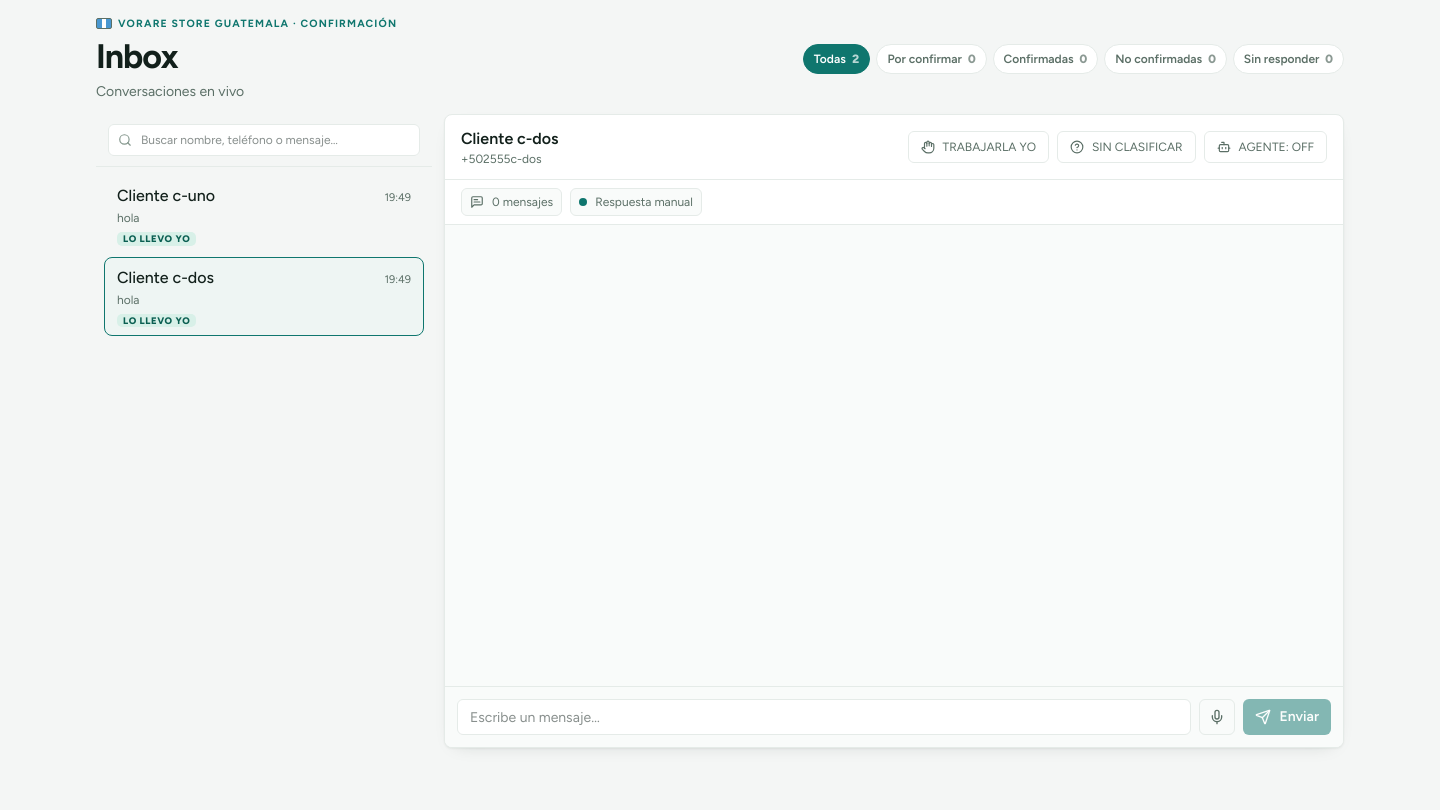
Scenario: «la trabajo yo» › deja la fila tomada sin llevarse el borrador, el filtro ni el chat abierto
Type "ya te confirmo la gu" into the field with placeholder "Escribe un mensaje…". click: (824, 717)
box: top-left (457, 699), bottom-right (1192, 735)
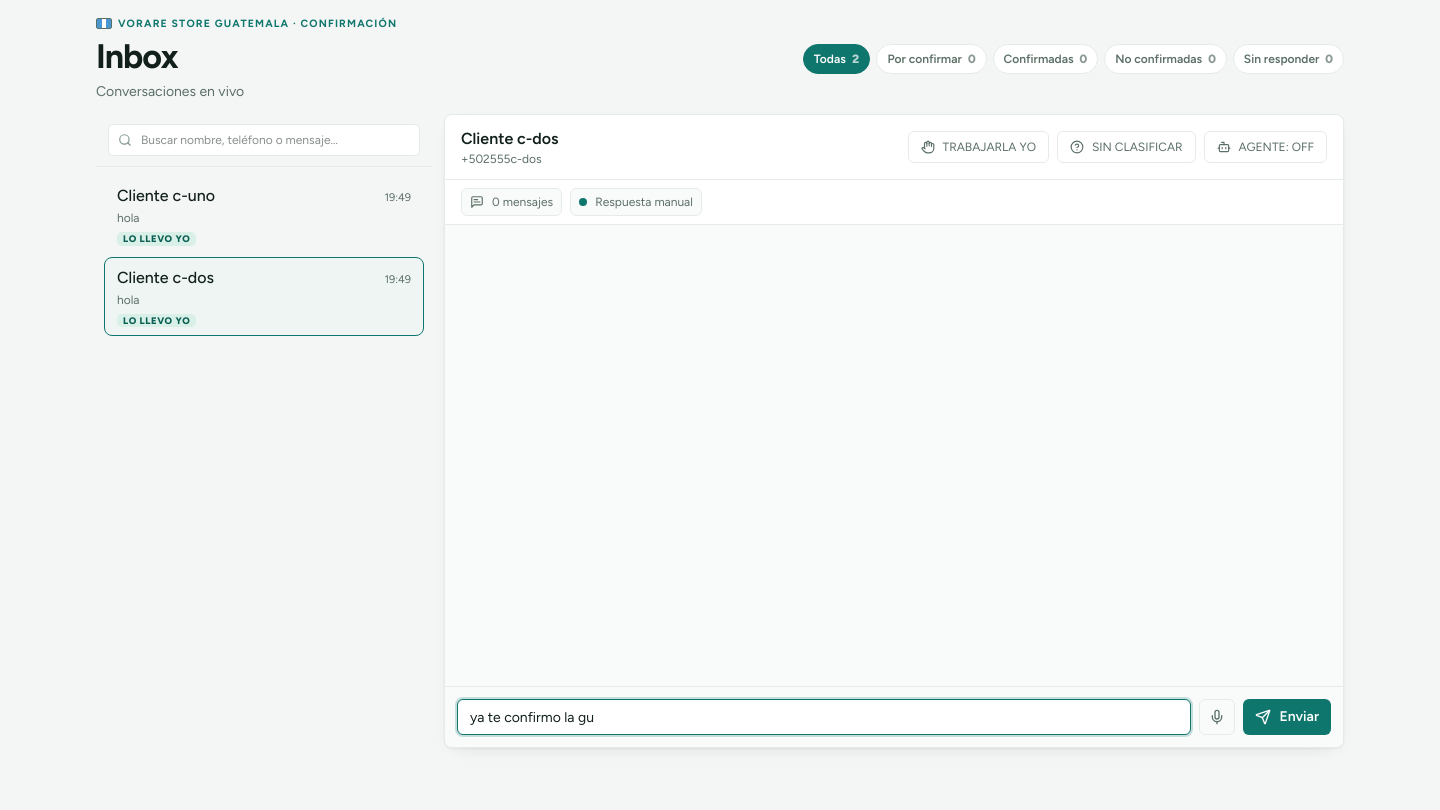
Click the button "Sin responder 0". click: click(1288, 59)
box: top-left (1233, 44), bottom-right (1344, 74)
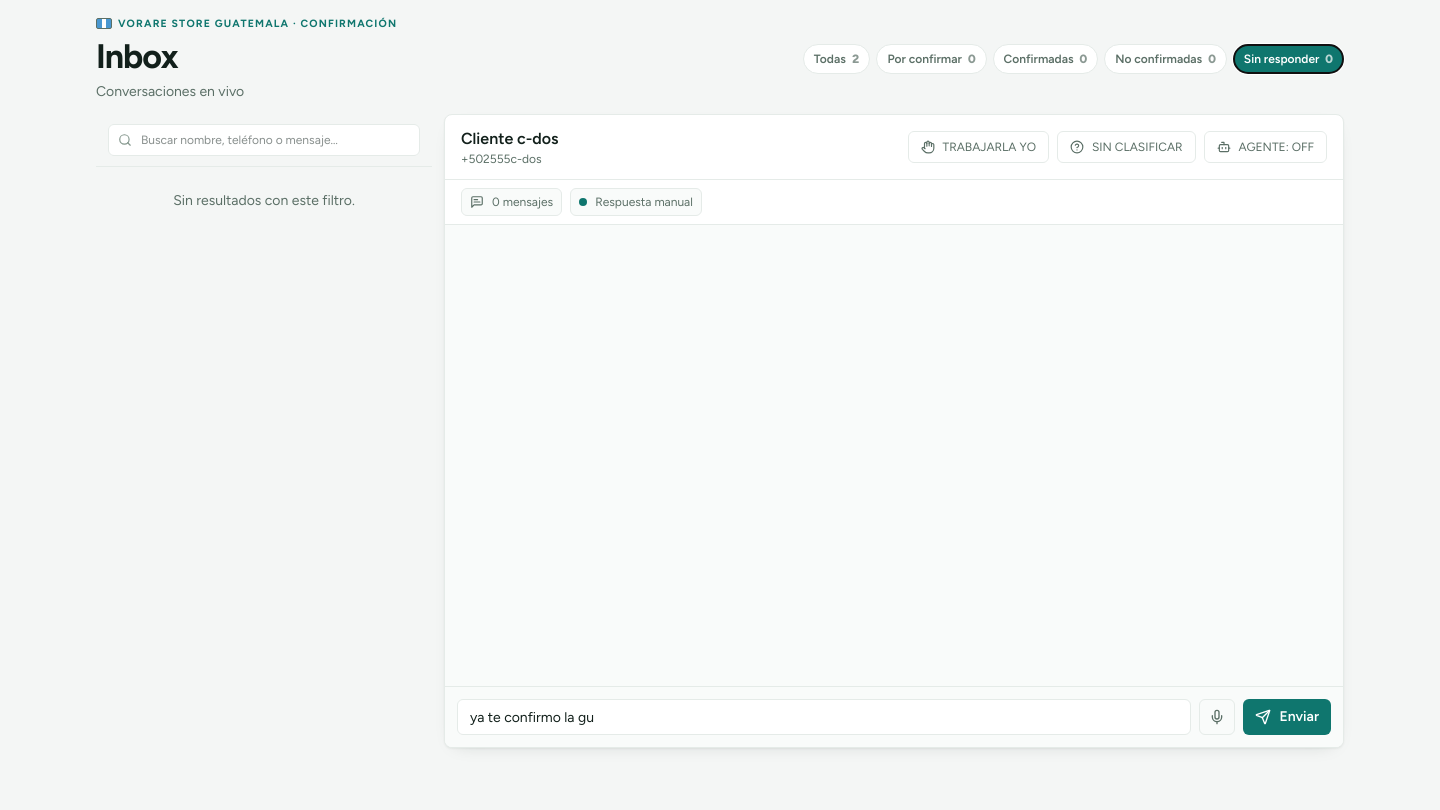
Click the button "Trabajarla yo". click: click(978, 147)
box: top-left (908, 131), bottom-right (1049, 163)
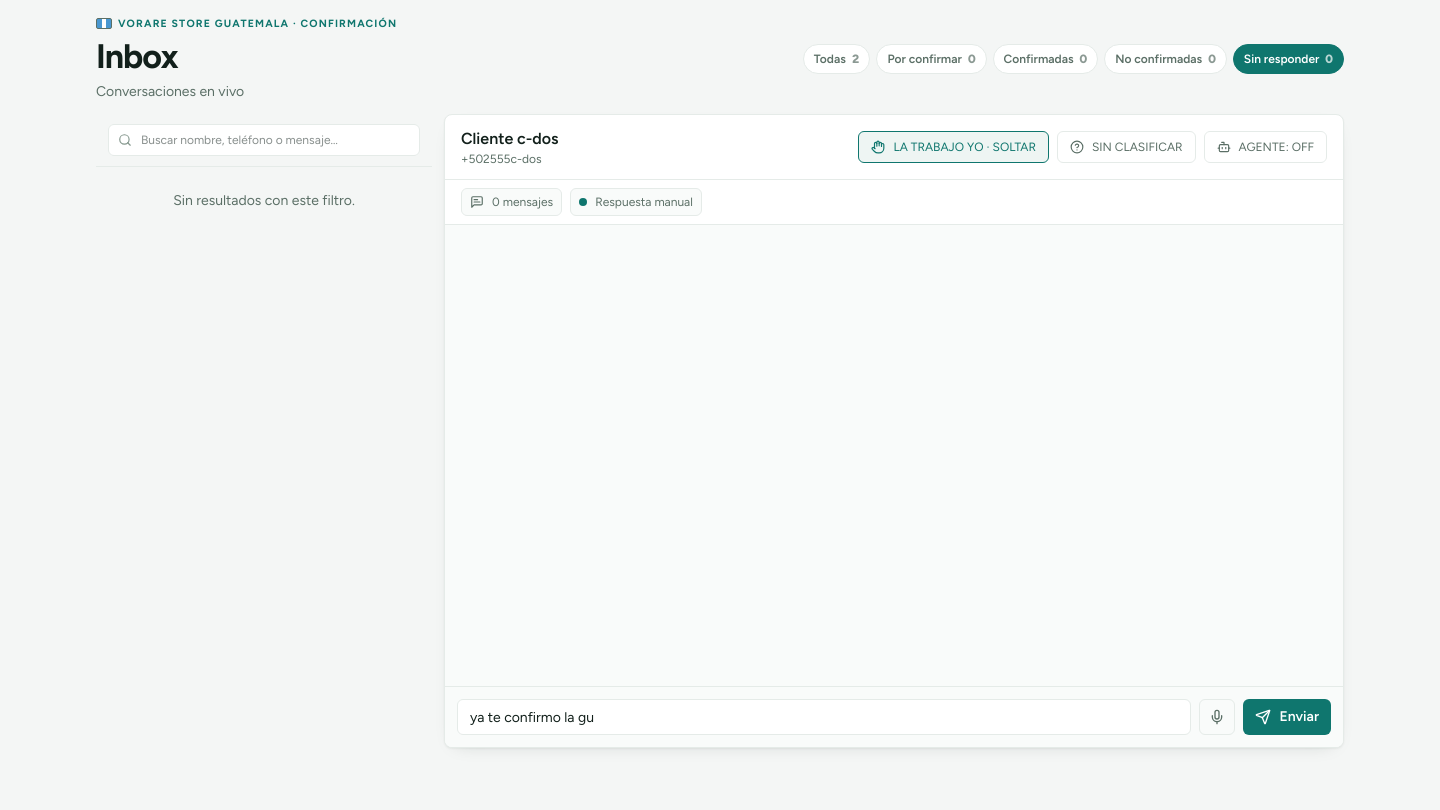
Expected: the button "Sin responder 0" is shown, top-left (1233, 44), bottom-right (1344, 74)
Expected: the button "La trabajo yo · soltar" is shown, top-left (858, 131), bottom-right (1049, 163)
